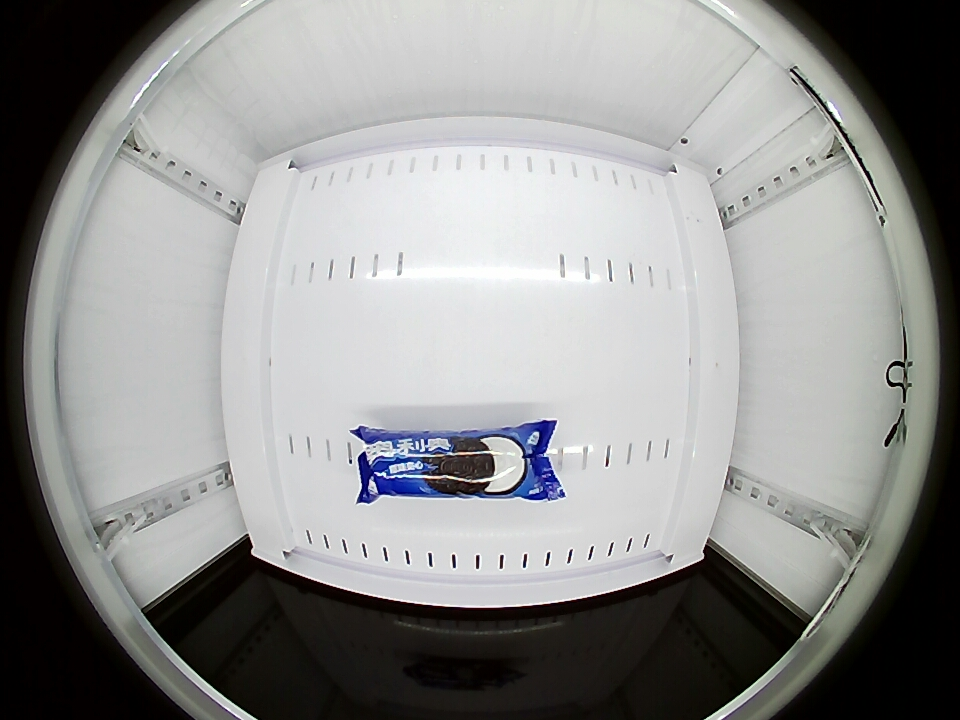aoliao: (356, 427, 550, 501)
